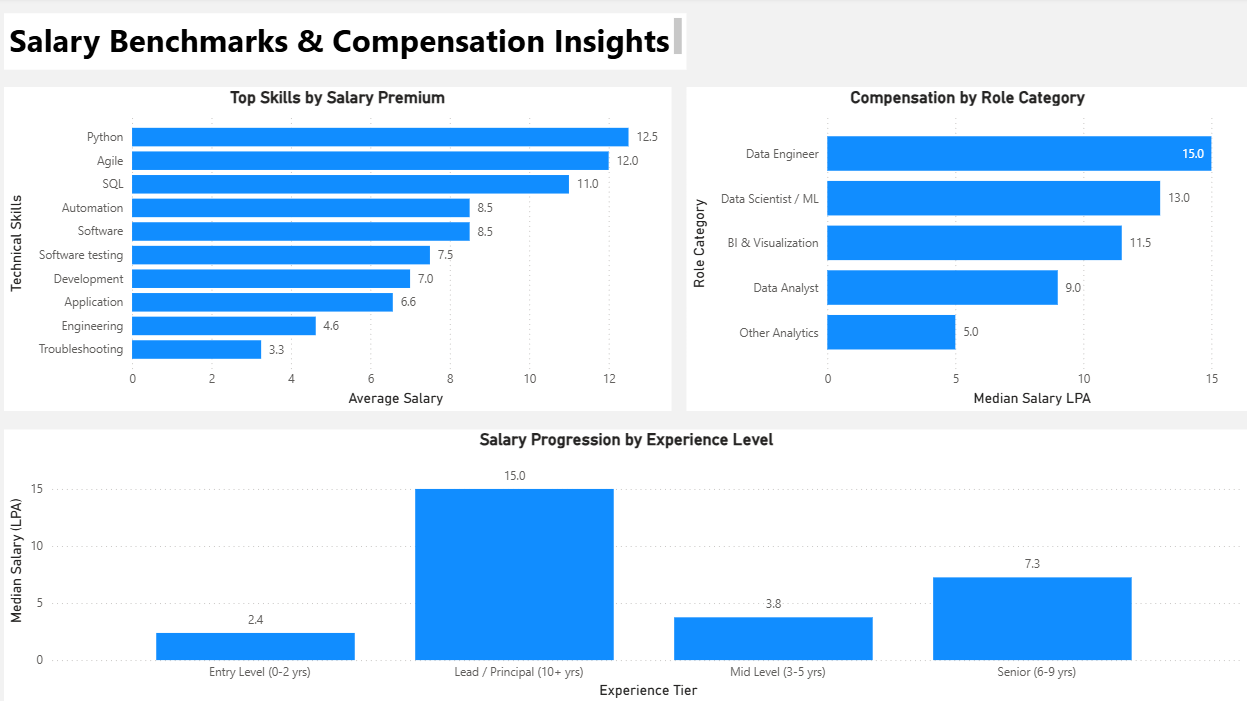

Layout of this report page (visuals, bound fields, positions):
{"tool":"powerbi","page":{"name":"Salary Insights","canvas":[1280,720],"ordinal":1},"visuals":[{"type":"clusteredBarChart","title":"Top Skills by Salary Premium","fields":{"Category":["job_market_analysis dim_skills.skill_name"],"Y":["job_market_analysis bridge_job_skills.Median Salary LPA"]},"box":[10.2,91.8,680.7,330.2],"z":0},{"type":"clusteredColumnChart","title":"Salary Progression by Experience Level","fields":{"Category":["job_market_analysis fact_jobs (2).experience_tier"],"Y":["job_market_analysis bridge_job_skills.Median Salary LPA"]},"box":[0,441.1,1269.7,279.2],"z":1000},{"type":"clusteredBarChart","title":"Compensation by Role Category","fields":{"Category":["job_market_analysis fact_jobs (2).role_category"],"Y":["job_market_analysis bridge_job_skills.Median Salary LPA"]},"box":[706.2,91.8,573.7,330.2],"z":2000},{"type":"textbox","box":[10.2,16.6,696,57.4],"z":3000}]}

Visuals, with their boxes in screenshot pixels (x1, y1, x2, y2), scaled from the page's 1280x720 canvas onto the 1247x701 screenshot:
"Top Skills by Salary Premium" clusteredBarChart: [10,89,673,411]
"Salary Progression by Experience Level" clusteredColumnChart: [0,429,1237,700]
"Compensation by Role Category" clusteredBarChart: [688,89,1246,411]
textbox: [10,16,688,72]
